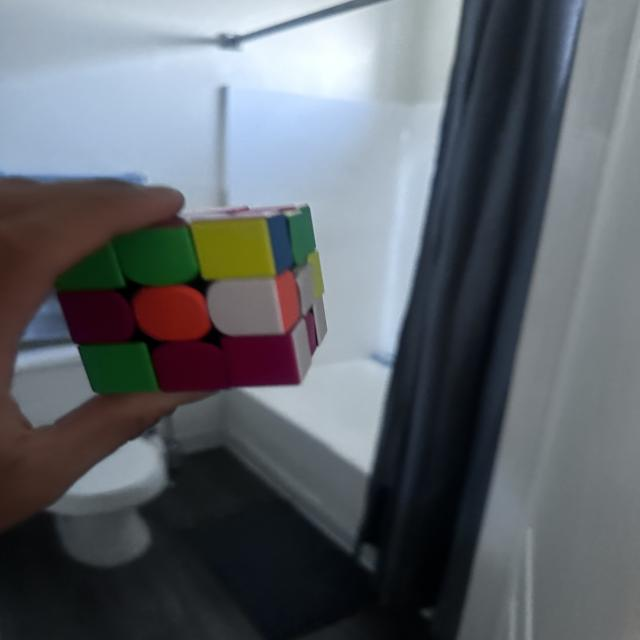sticker: (191, 215, 278, 283), (112, 224, 202, 289), (206, 273, 292, 338), (131, 284, 213, 344), (55, 287, 137, 346), (224, 331, 304, 391), (150, 338, 230, 394), (79, 341, 159, 396), (52, 238, 128, 294), (284, 205, 318, 268), (264, 213, 296, 274), (274, 270, 302, 333), (292, 261, 319, 316), (306, 249, 326, 301)
